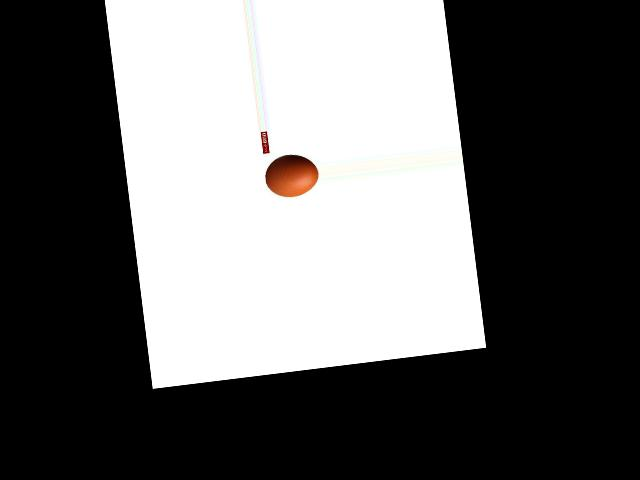egg: (263, 152, 319, 200)
